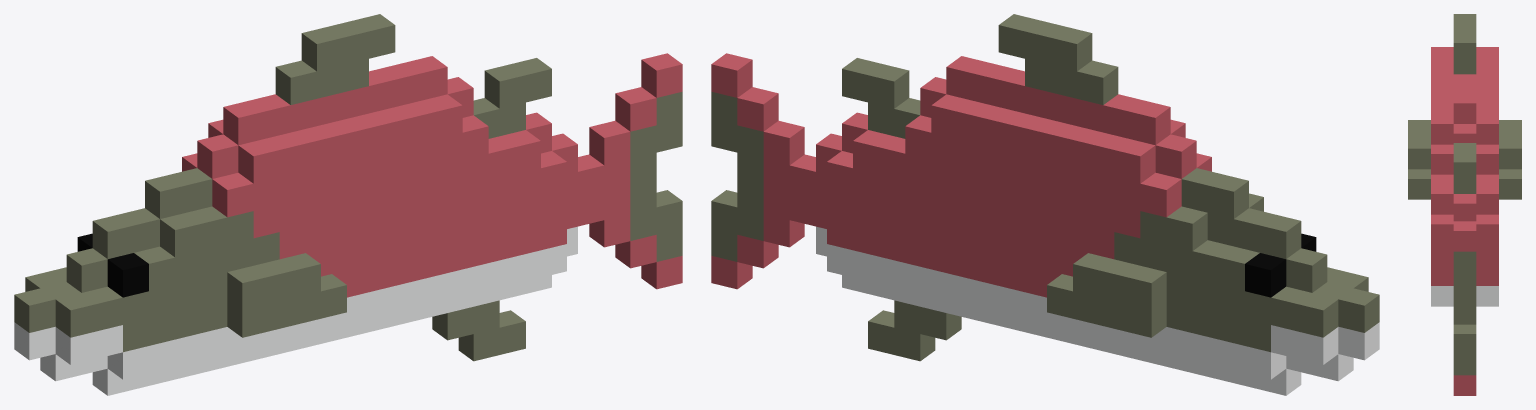
The model's file is SalmonRojo.fbx.
3 renders of one model, left to right at view 1: azimuth 30°, elevation 25°; view 2: azimuth 150°, elevation 25°; view 3: azimuth 270°, elevation 25°, orthographic. The views are drawn at different scales.
Visible parts, largest first — view 1: salmon_rojo_25x13x5; view 2: salmon_rojo_25x13x5; view 3: salmon_rojo_25x13x5.
Part boxes in pixels (<box>): salmon_rojo_25x13x5: <box>14,14,682,395</box>; salmon_rojo_25x13x5: <box>711,14,1379,395</box>; salmon_rojo_25x13x5: <box>1408,14,1521,395</box>.
Size of the model in its own units: 1042 by 542 by 208.
